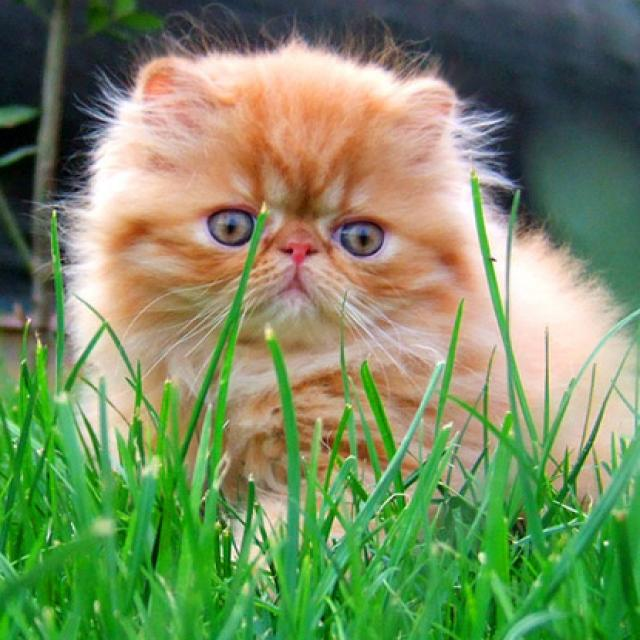Persian: (54, 13, 640, 556)
